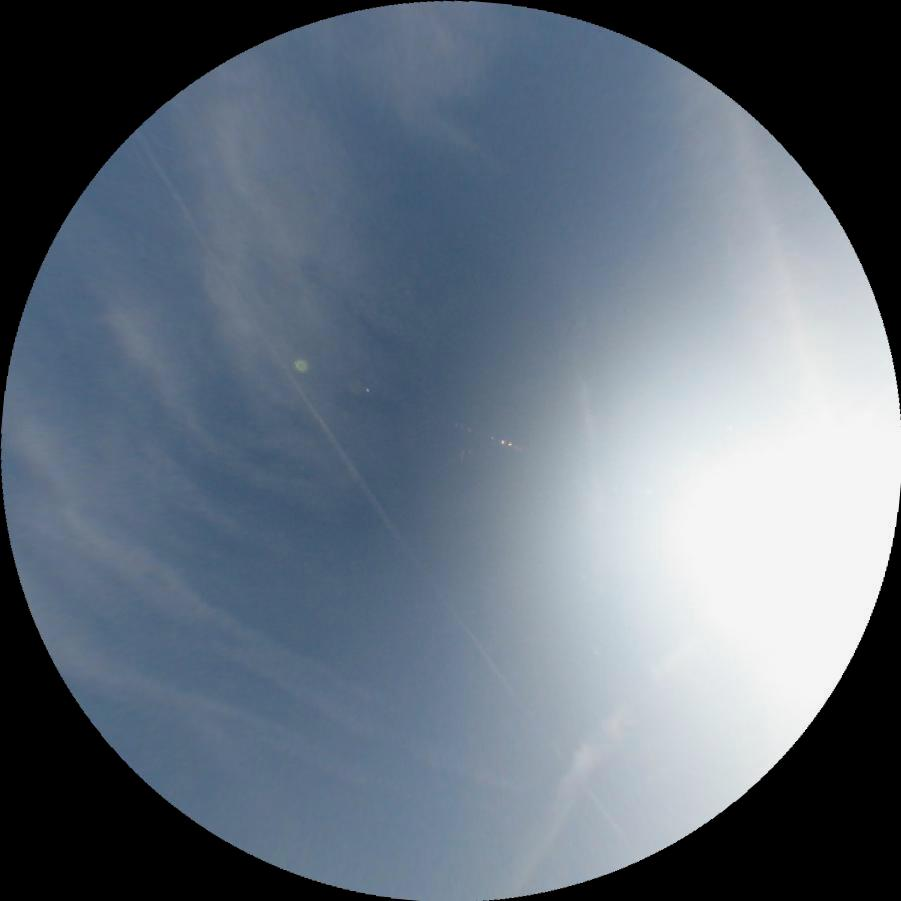contrail old: (123, 127, 634, 862)
contrail veryold: (37, 503, 547, 824), (674, 51, 801, 344)
sun: (644, 410, 901, 705)
